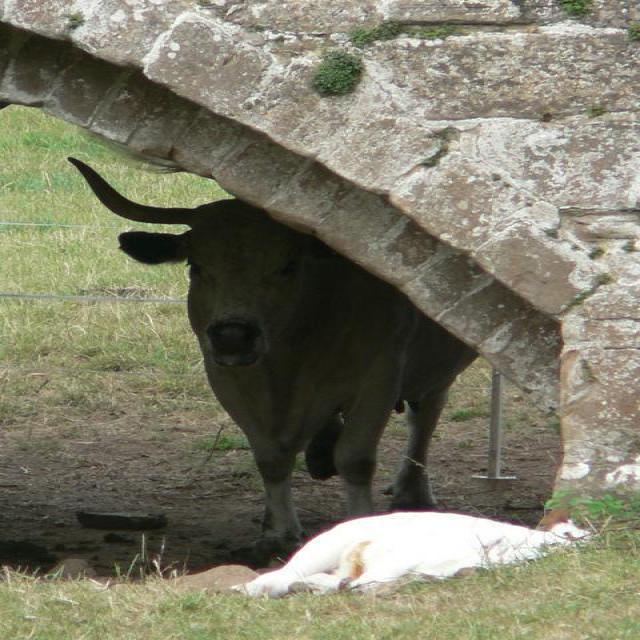Sheep: (232, 515, 601, 599)
